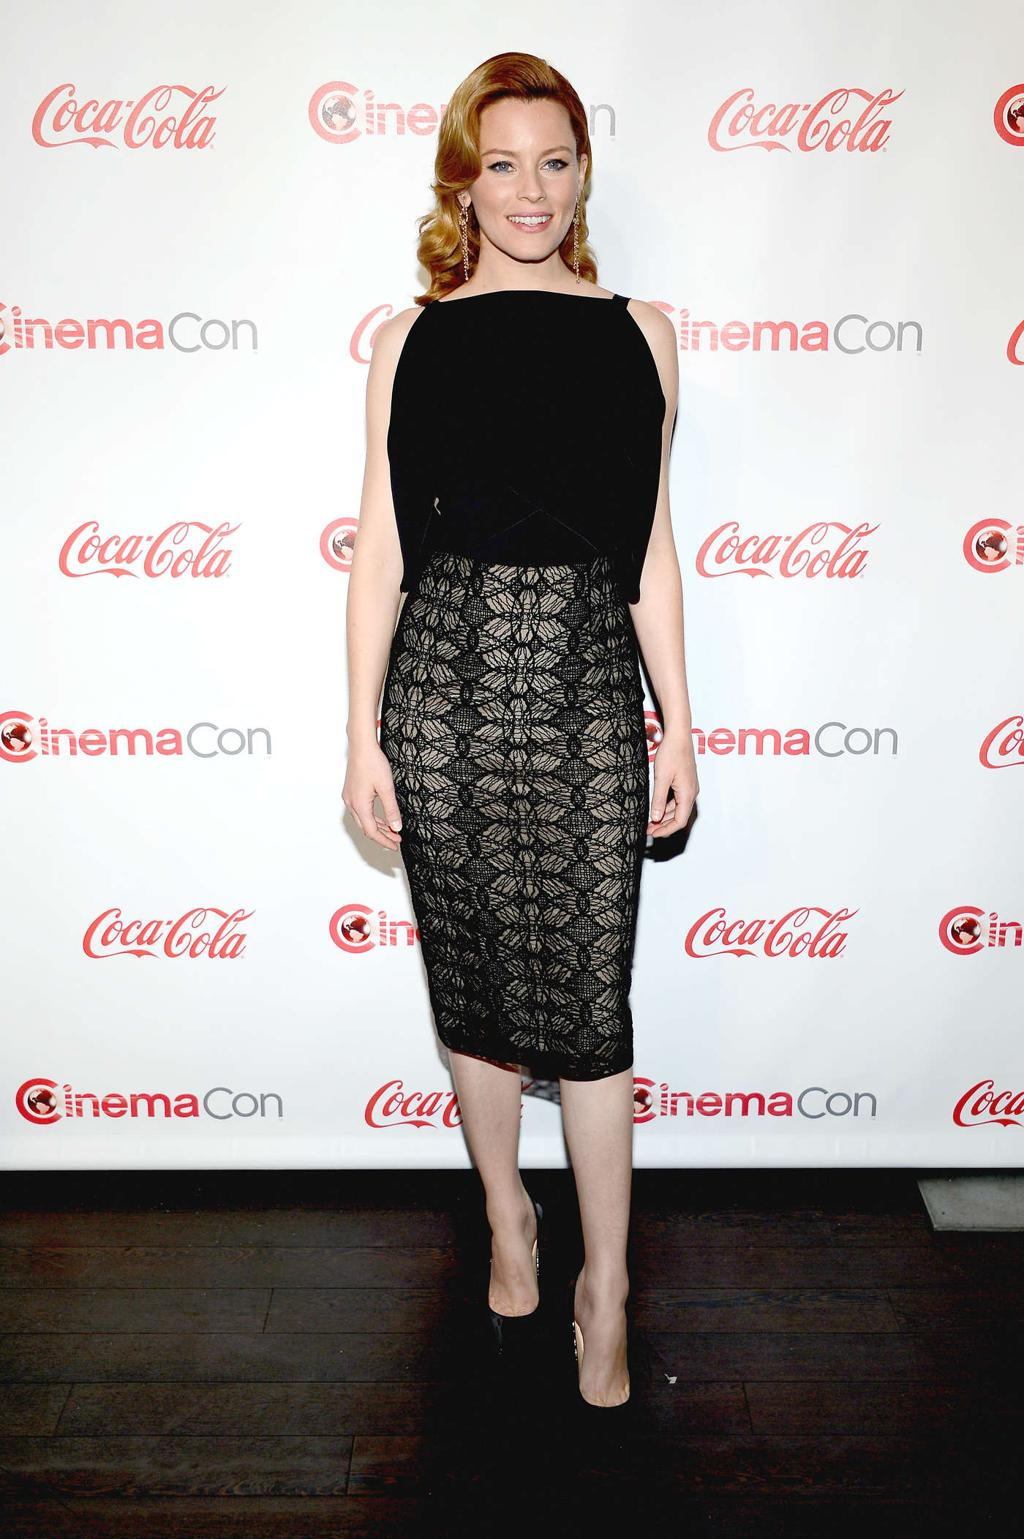face: (474, 90, 579, 264)
